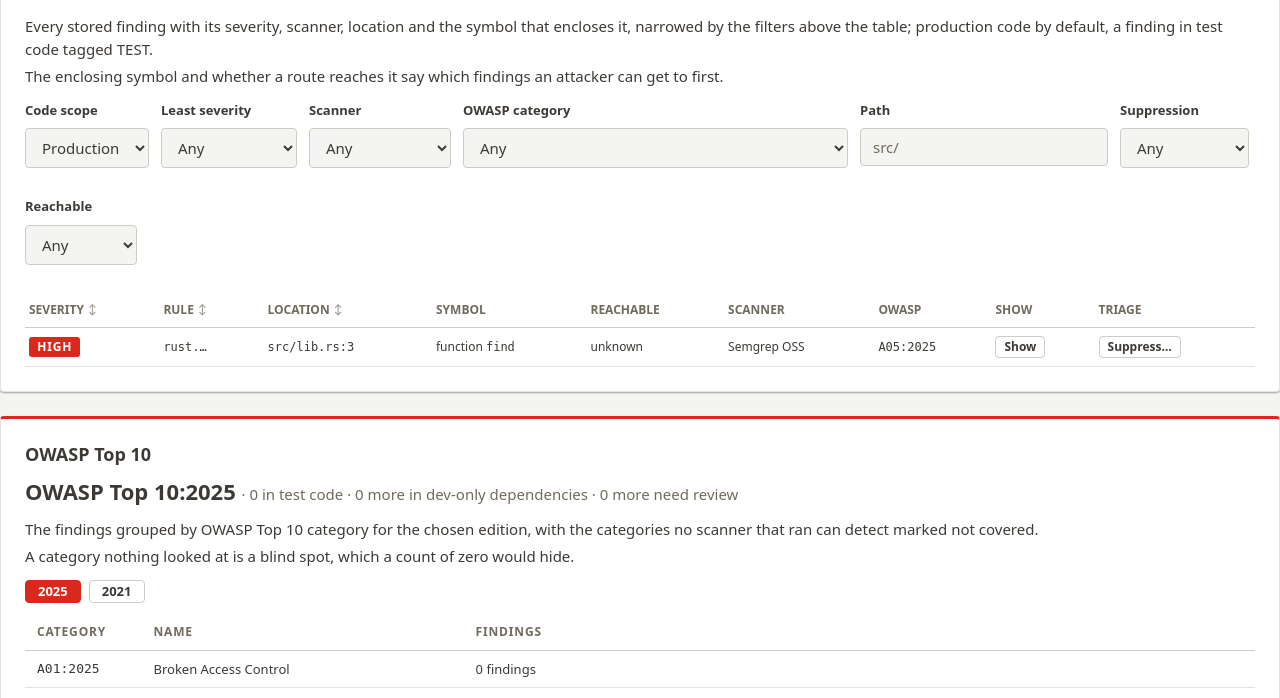
Test: evidence (FR-SC-32, S-818) › offers the enclosing symbol as evidence, off by default, and sends it only when ticked
The image size is (1280, 698).
(page scrolled)
Step 1. Click the button with aria-label "Suppress rust.lang.security.formatted-sql at src/lib.rs:3" → (1140, 347), box [1098, 336, 1181, 358]
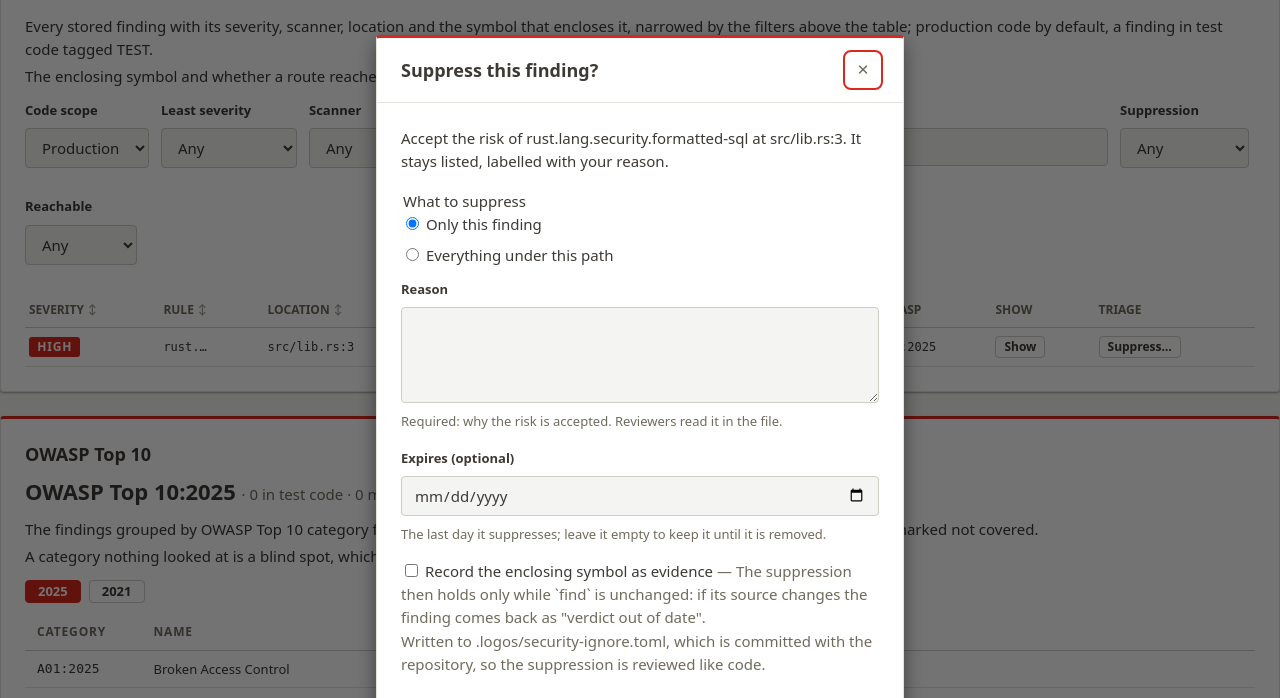
Check: the checkbox labelled "Record the enclosing symbol as evidence" is not checked
Step 2. Click the checkbox labelled "Record the enclosing symbol as evidence" → (412, 570), box [405, 564, 418, 577]
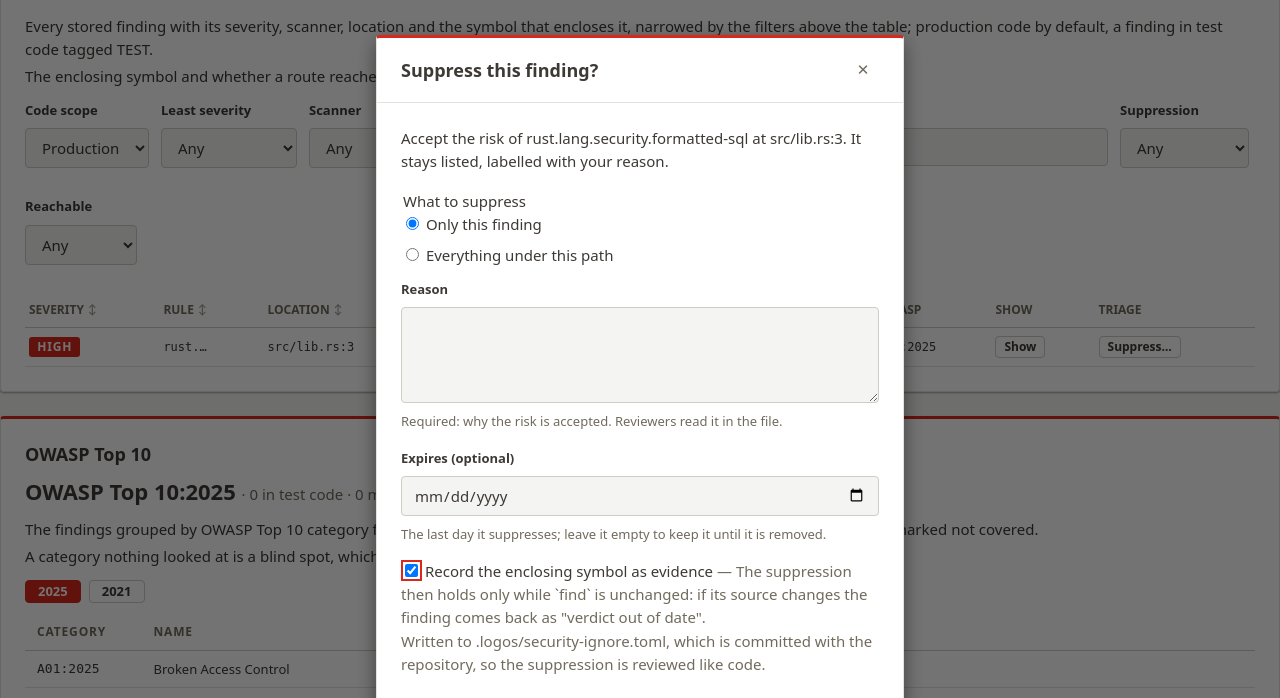
Step 3. Type "constant query" into the text box labelled "Reason" → (640, 355), box [401, 307, 879, 403]
(page scrolled)
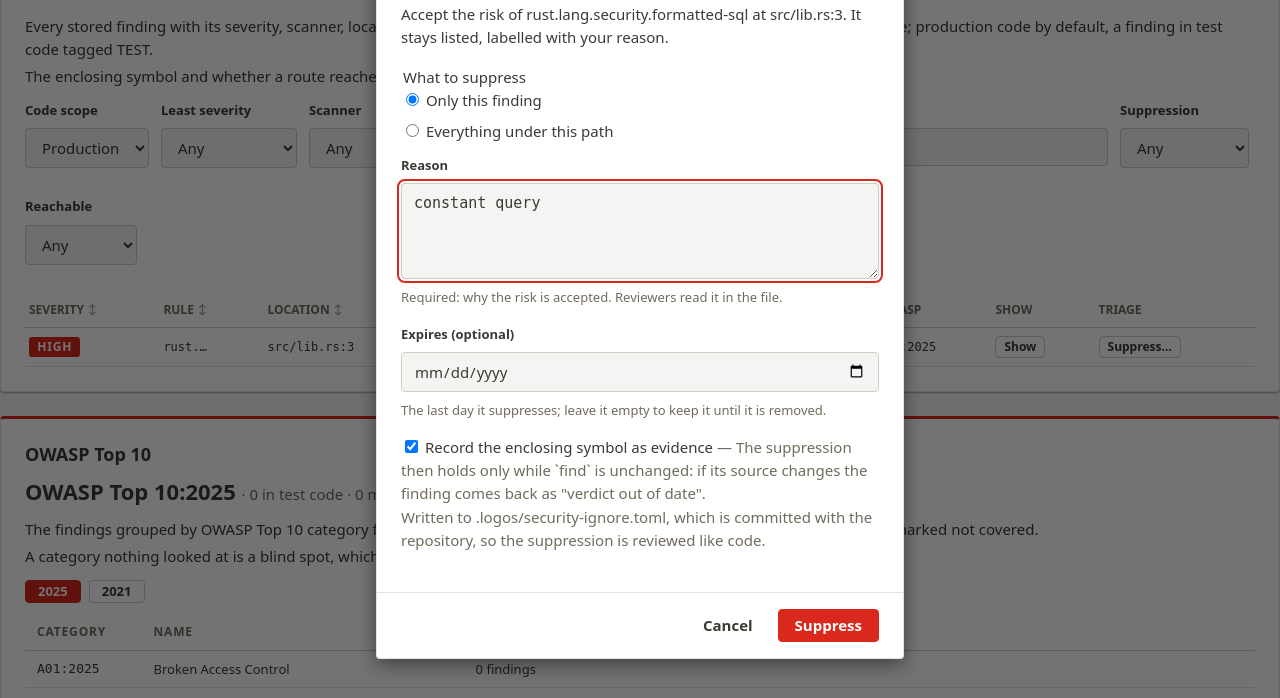
Step 4. Click the button "Suppress" → (828, 626), box [778, 609, 879, 642]
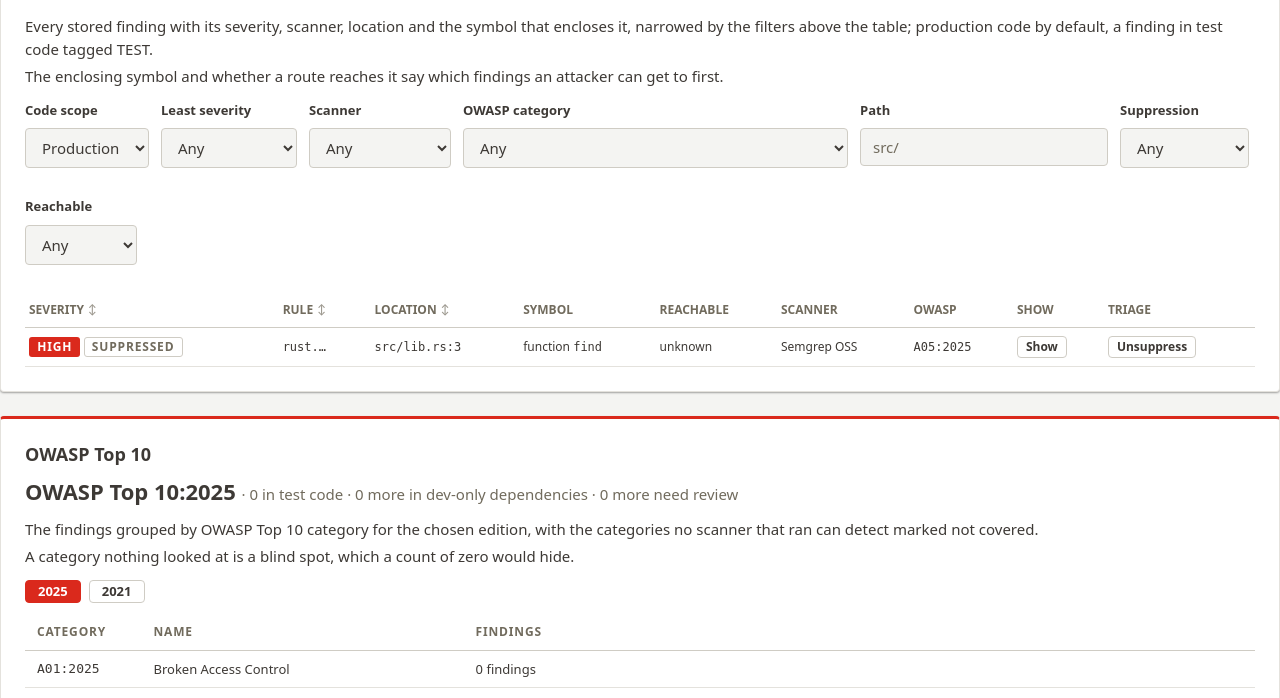
Check: the button with aria-label "Unsuppress rust.lang.security.formatted-sql at src/lib.rs:3" is shown, box [1108, 336, 1196, 358]
